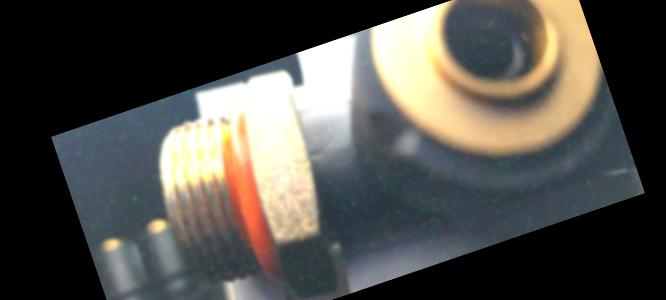bump: (363, 91, 433, 168)
white mark: (301, 145, 329, 165)
